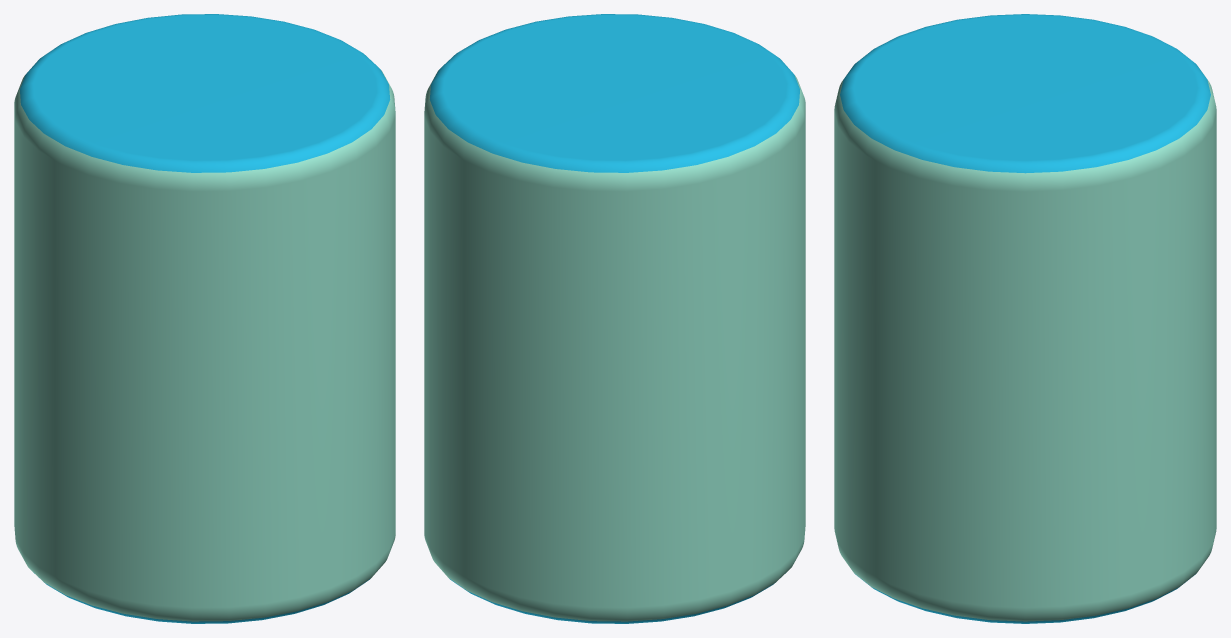
3 renders of one model, left to right at view 1: azimuth 30°, elevation 25°; view 2: azimuth 150°, elevation 25°; view 3: azimuth 270°, elevation 25°, orthographic.
Parts seen in each view (by area): view 1: Cylinder; view 2: Cylinder; view 3: Cylinder.
Part boxes in pixels (bbox=[...]): Cylinder: bbox=[14, 14, 395, 623]; Cylinder: bbox=[424, 14, 805, 623]; Cylinder: bbox=[834, 14, 1216, 623].
Size of the model in its own units: 13.35 by 17.8 by 13.35.
